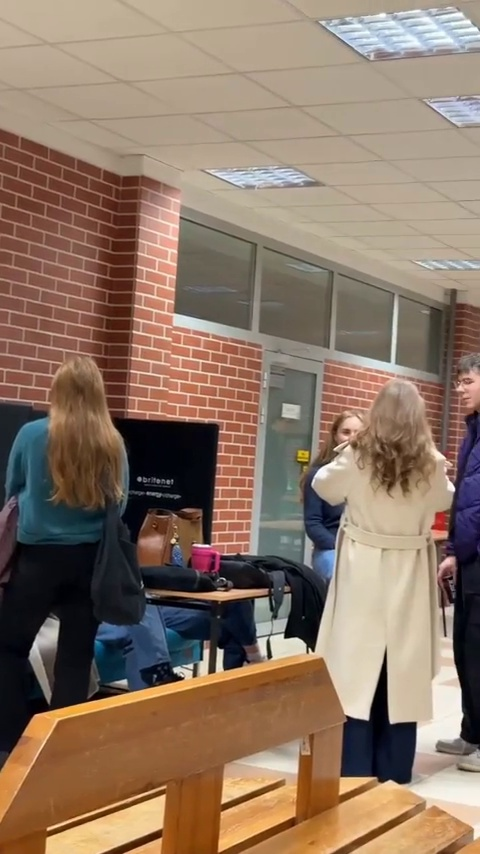no vest: (313, 383, 433, 711), (12, 351, 119, 712), (444, 344, 480, 727)
